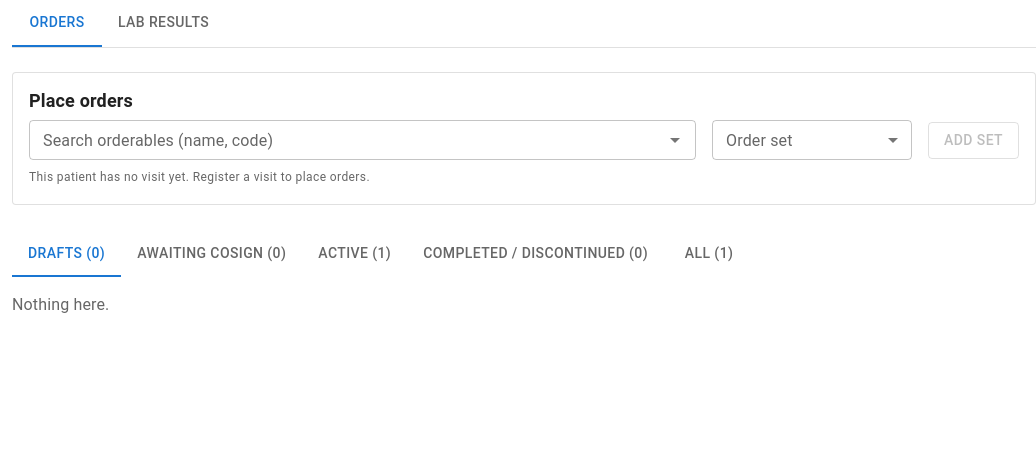
Scenario: a signed medication shows its schedule on one line
The width and height of the screenshot is (1036, 468).
Click the tab "Active (1)".
click(355, 253)  # box x1=302 y1=229 x2=407 y2=277
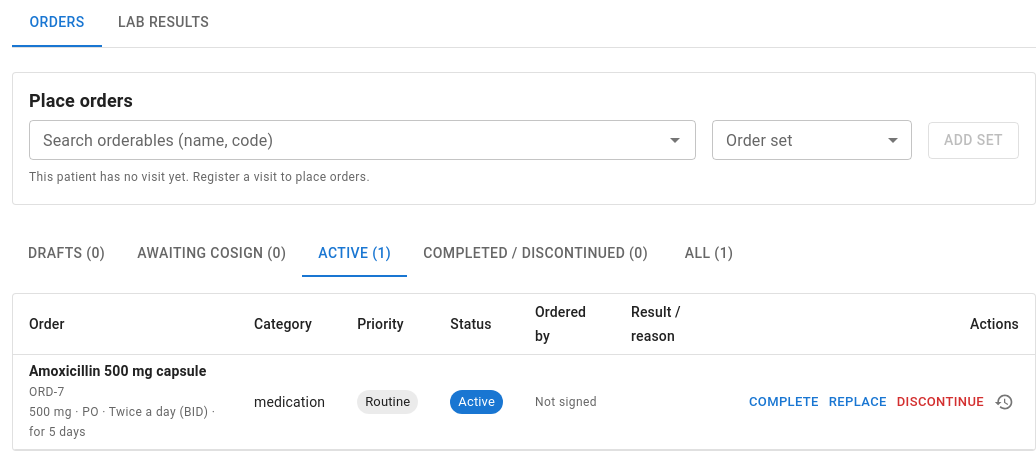
Expected: the text with test id "schedule-summary-7" reads "500 mg · PO · Twice a day (BID) · for 5 days", x1=29 y1=405 x2=215 y2=439
